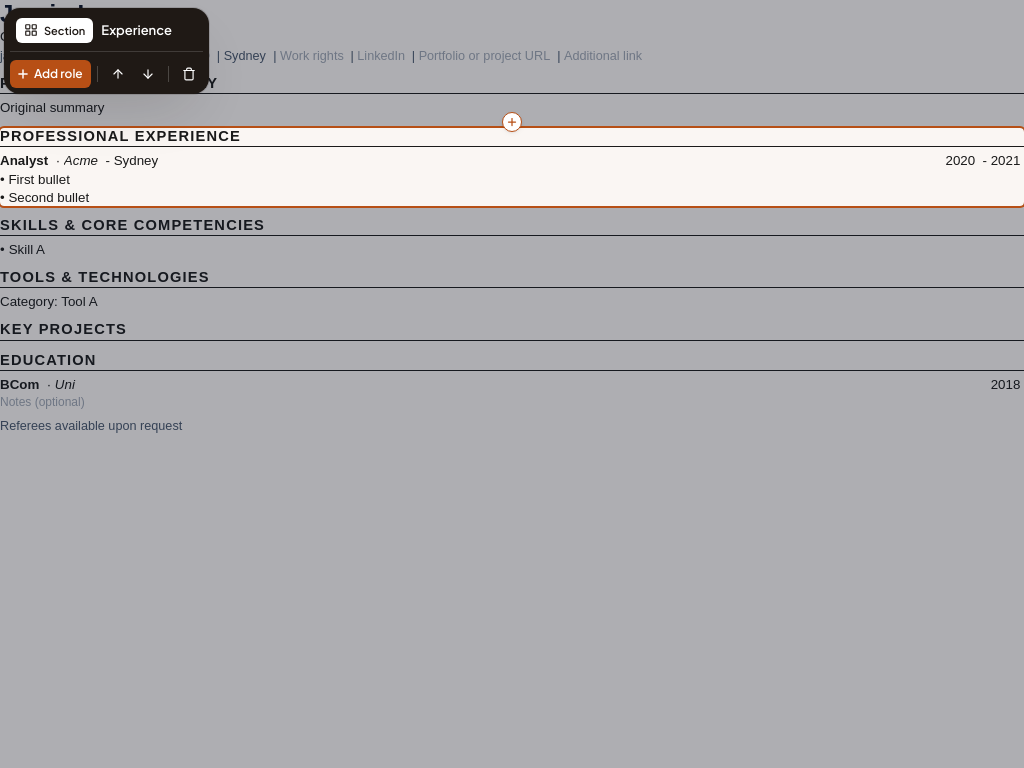
it: BaseResumeTemplate - editable canvas path › selection-driven toolbars › the + on a selected section's top edge › swaps for a labelled pill when clicked, and the pill opens the Add role pop-up
Click the button named "Add role at the top of this section": {"x": 512, "y": 122} [502,112,522,132]
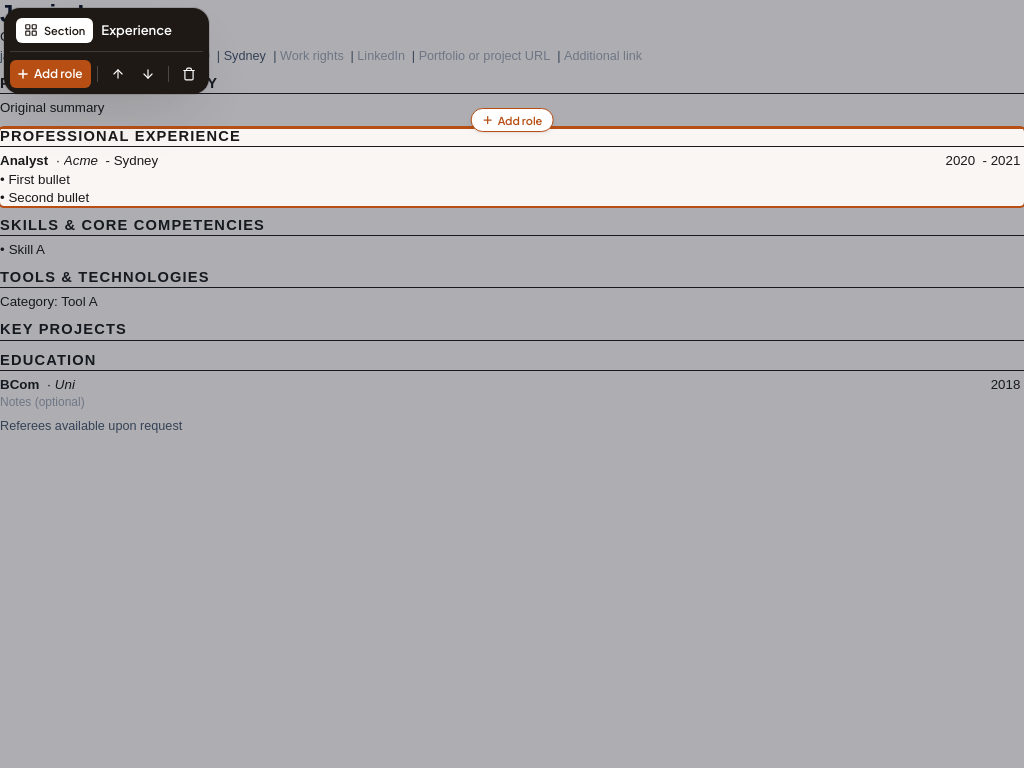
Click the 2nd button "Add role": {"x": 512, "y": 120} [471,108,553,132]
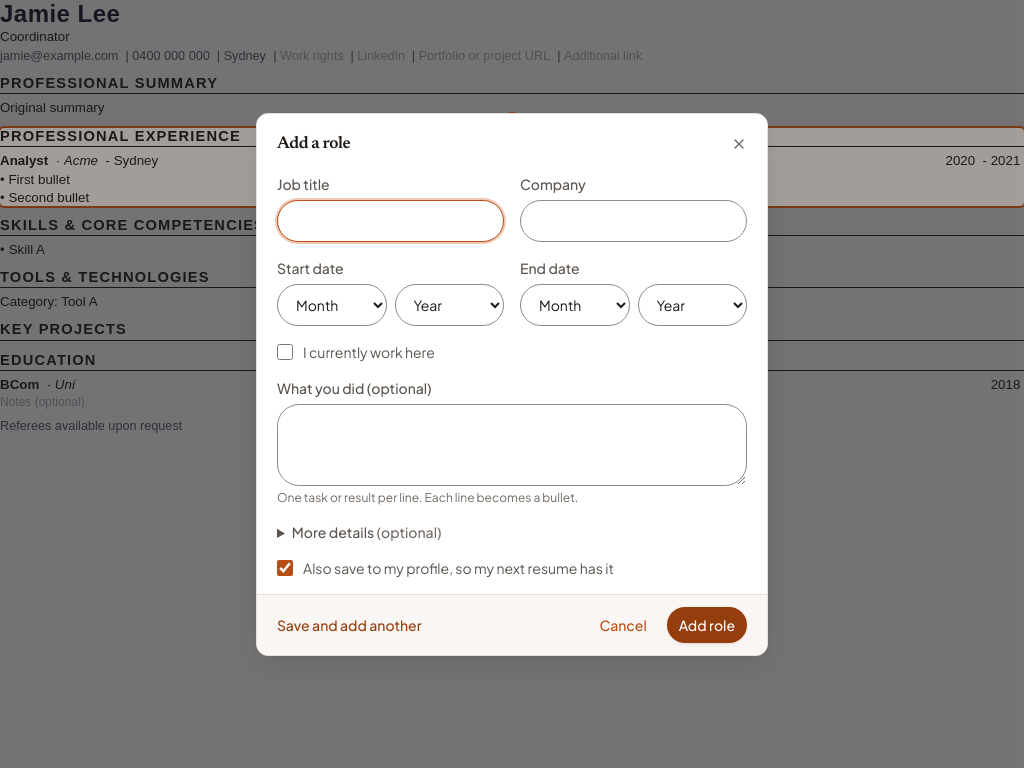
Now the dialog "Add a role" is shown, box [256,112,768,656]
